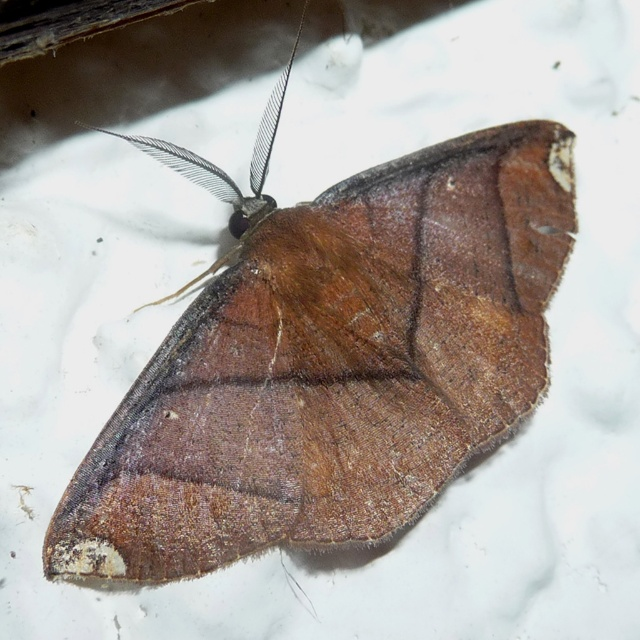Butterfly: (53, 15, 571, 600)
